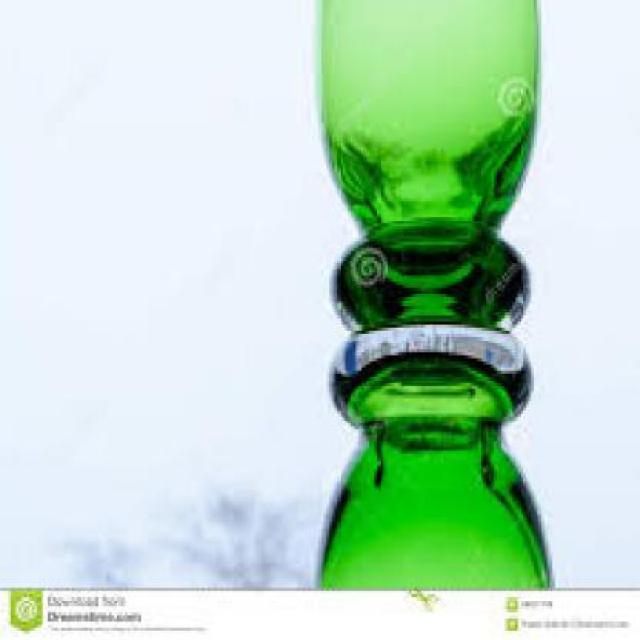kaca: (314, 0, 552, 588)
